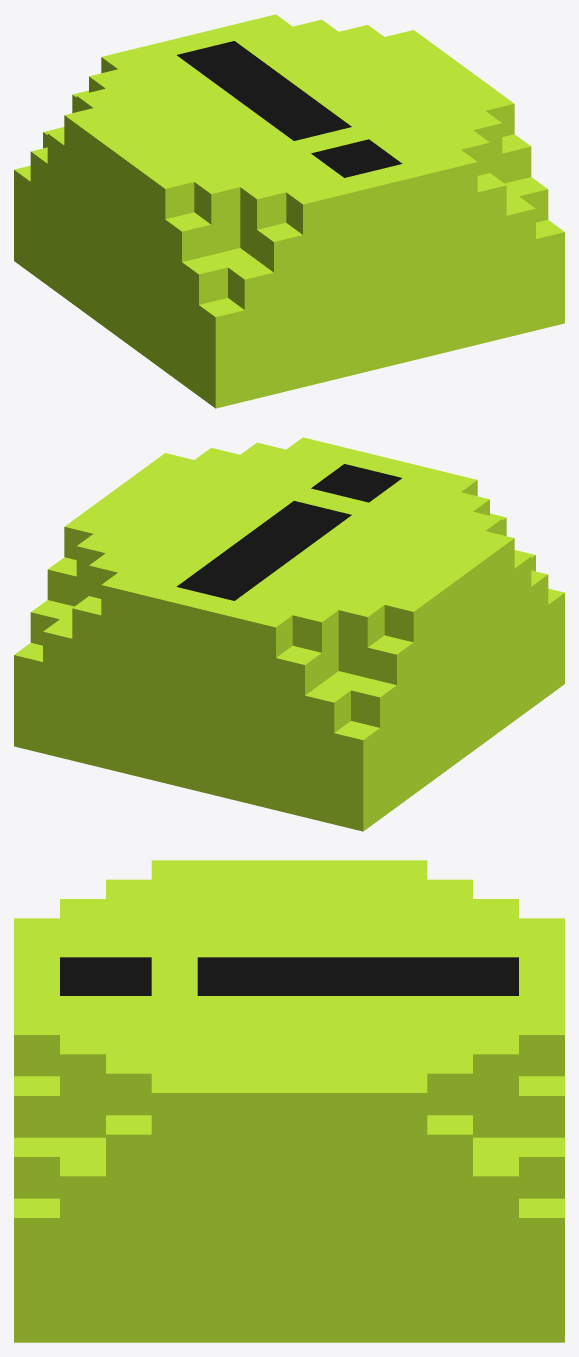
File: tnt spawner handler spawn button.obj
3 views of the same model, one above another, from view 1: azimuth 30°, elevation 25°; view 2: azimuth 150°, elevation 25°; view 3: azimuth 270°, elevation 25° (orthographic). The views are drawn at different scales.
Size of the model in its own units: 1.2 by 0.6 by 1.2.
Materials: 1 (1 with a texture image).
